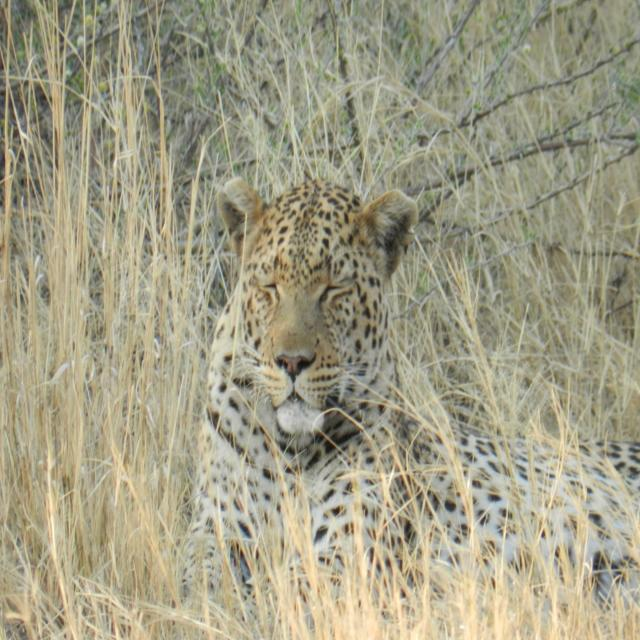Leopard: (181, 176, 637, 616)
